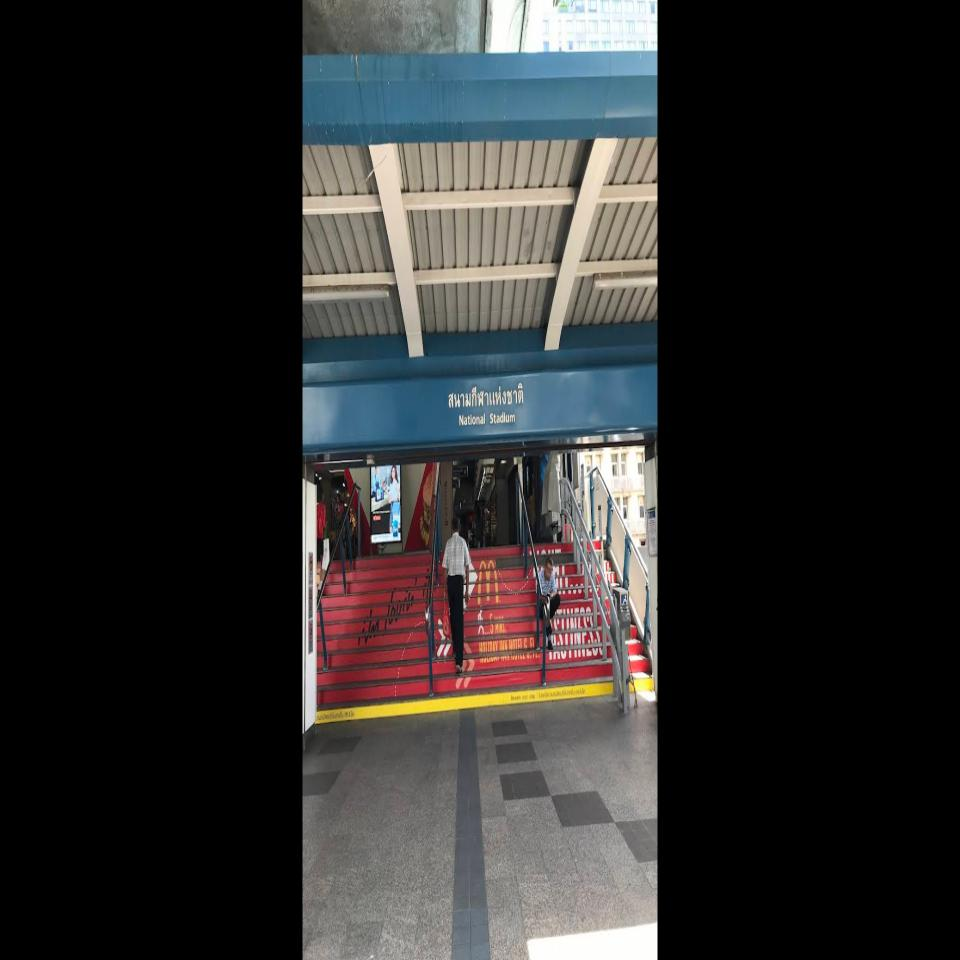signage: (448, 381, 525, 426)
